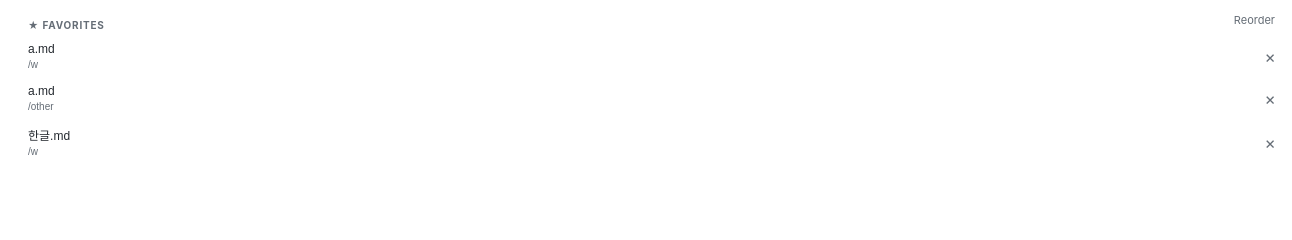
저장 실패는 항목을 유지하고 목록을 다시 불러올 수 있다
What coordinates should you click on to do the following:
click the 1st button "×"
I would click on:
 (1270, 56)
Its box is [1256,42,1284,70].
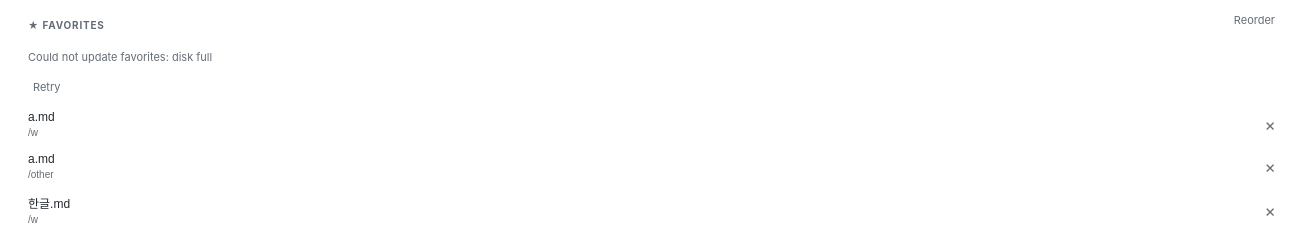
Check: the button with class "recent-open" showing "a.md /w" is shown, box [12,103,1252,145]
Check: the message "Could not update favorites: disk full Retry" is shown, box [28,50,212,99]
What coordinates should you click on to do the following:
click the button "Retry"
I would click on:
 (47, 87)
Its box is [28,75,65,99].
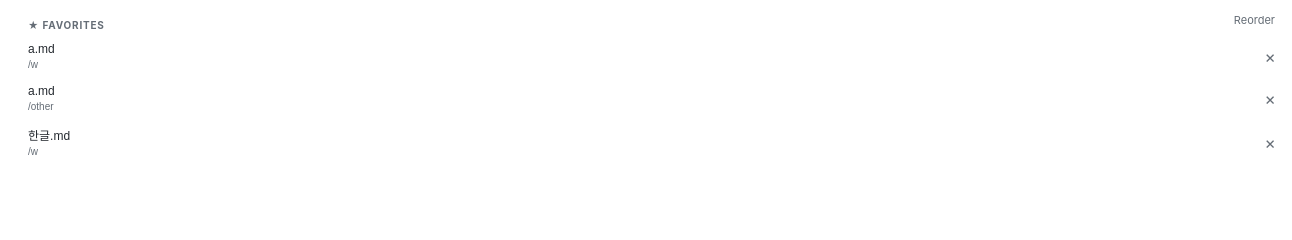
Check: the message "Could not update favorites: disk full Retry" is gone
